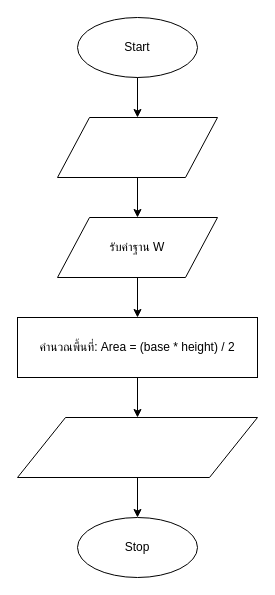
Some shapes in this 275 by 595 pixel diagram are drawn without their labels. The shapes that lost their labels are listed below. From the top down, each one's centre as x and y in pixels, then its label:
At (137,147): "รับค่าความสูง H".
At (137,447): "แสดงผล Area".
